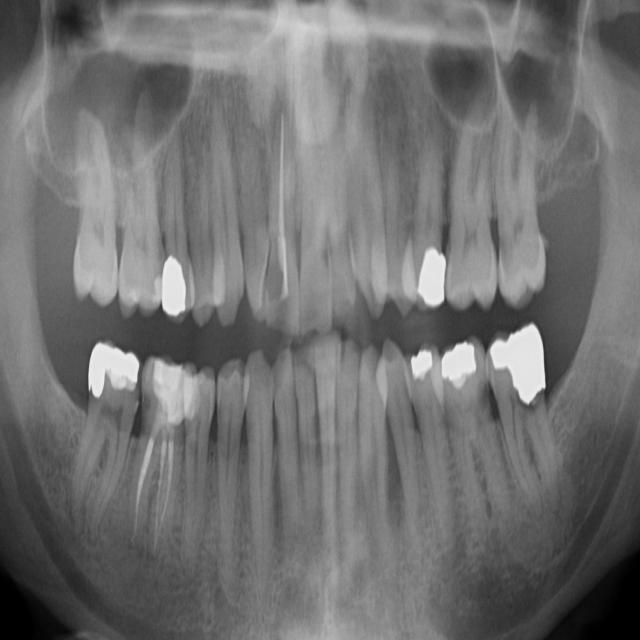dentin-curugu: (267, 259, 285, 300)
dolgu: (488, 328, 548, 400), (406, 245, 447, 304), (442, 344, 480, 389), (408, 346, 434, 382)
kanal-tedavisi: (265, 119, 299, 314), (129, 406, 177, 537)
kaplama: (85, 344, 141, 392), (161, 256, 188, 316)
